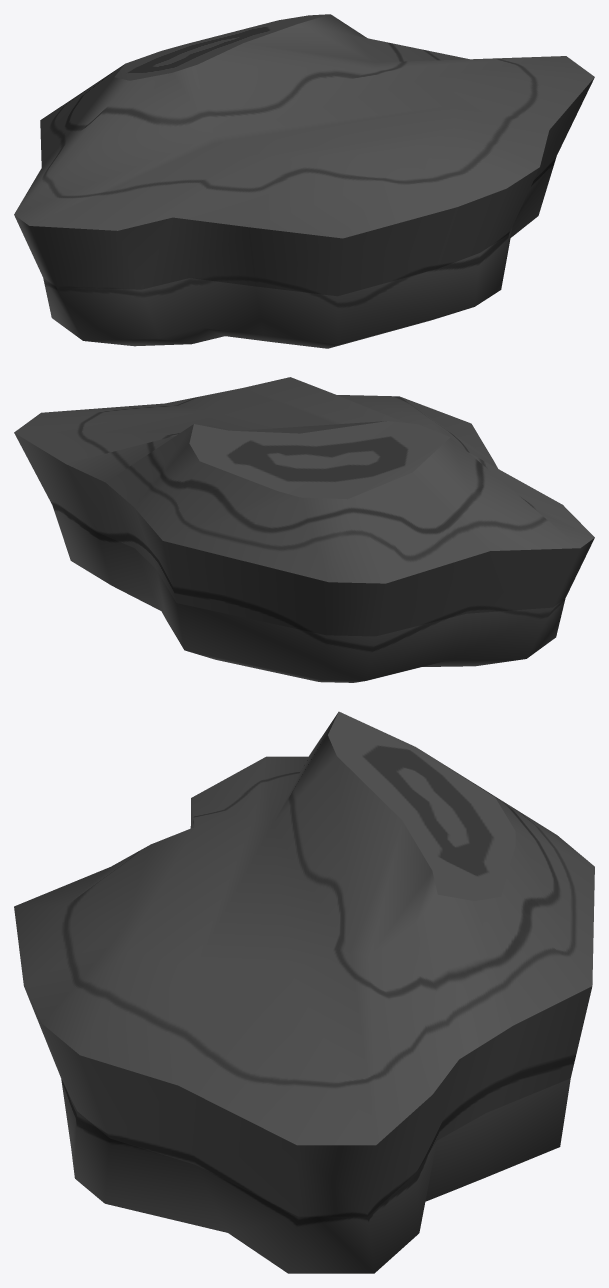
Rendered from Mesh_Top_Canyon_2_OE.fbx.
3 renders of one model, top to bottom at view 1: azimuth 30°, elevation 25°; view 2: azimuth 150°, elevation 25°; view 3: azimuth 270°, elevation 25°, orthographic. The views are drawn at different scales.
Parts seen in each view (by area): view 1: Canyontop2; view 2: Canyontop2; view 3: Canyontop2.
Part boxes in pixels (x1,y1,x2,y2): Canyontop2: [14, 14, 594, 348]; Canyontop2: [14, 377, 594, 682]; Canyontop2: [14, 711, 594, 1273].
Bounding box in the file's own units: 3679 × 1472 × 2325.
